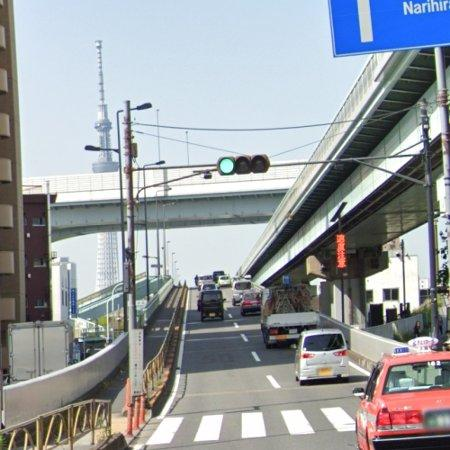crosswalks: (139, 404, 356, 445)
